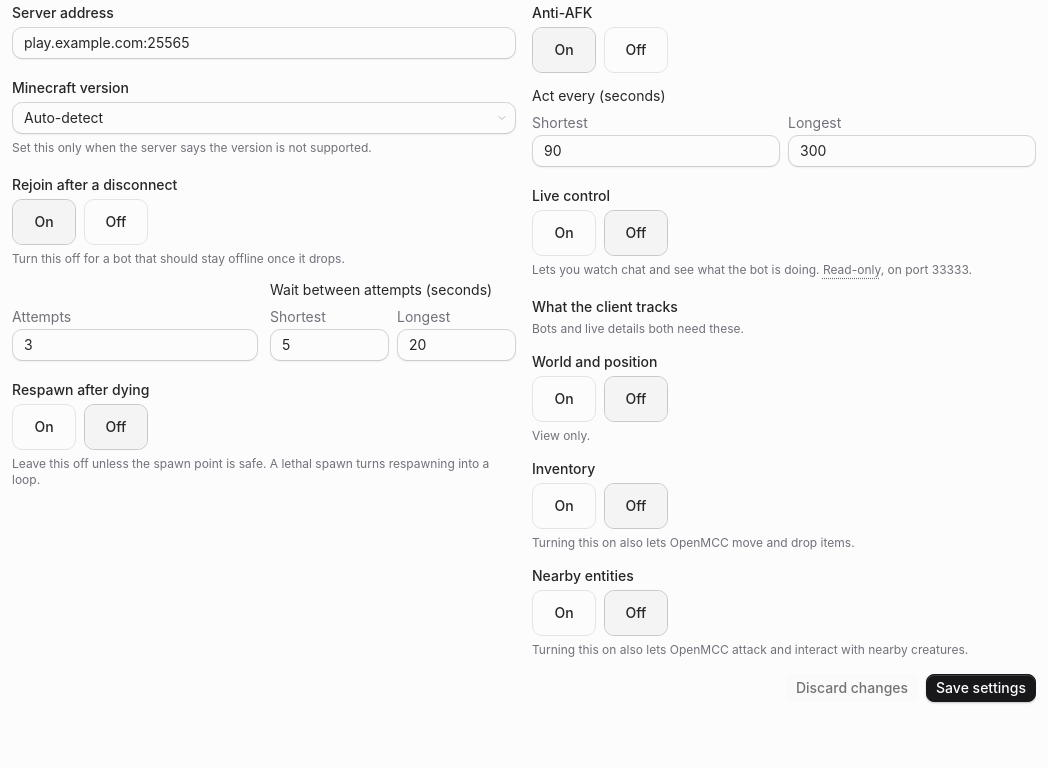
Scenario: ★ what a save that lost the race tells the operator › ★ says someone else saved first, and shows the settings that operator saved
This screenshot has width=1048, height=768.
Replace the text in the field labelled "Server address" with "mine.example.com" at x=264, y=43, box [13,28,515,58]
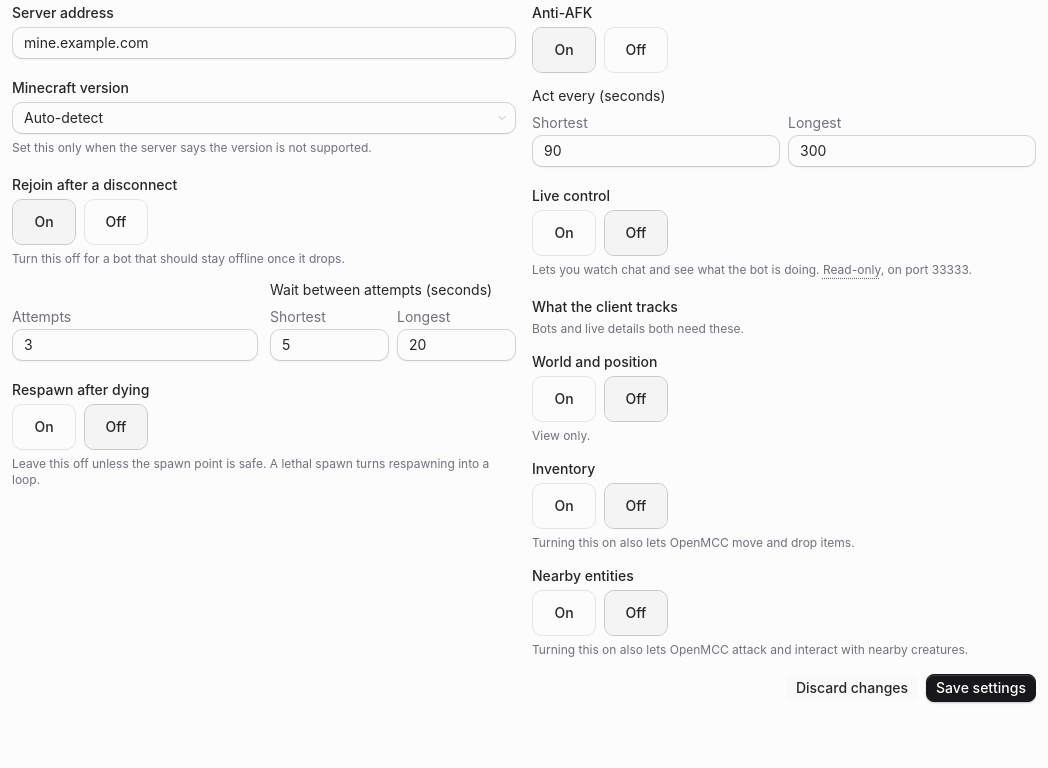
Click the button "Save settings" at x=981, y=688, box [926,674,1036,702]
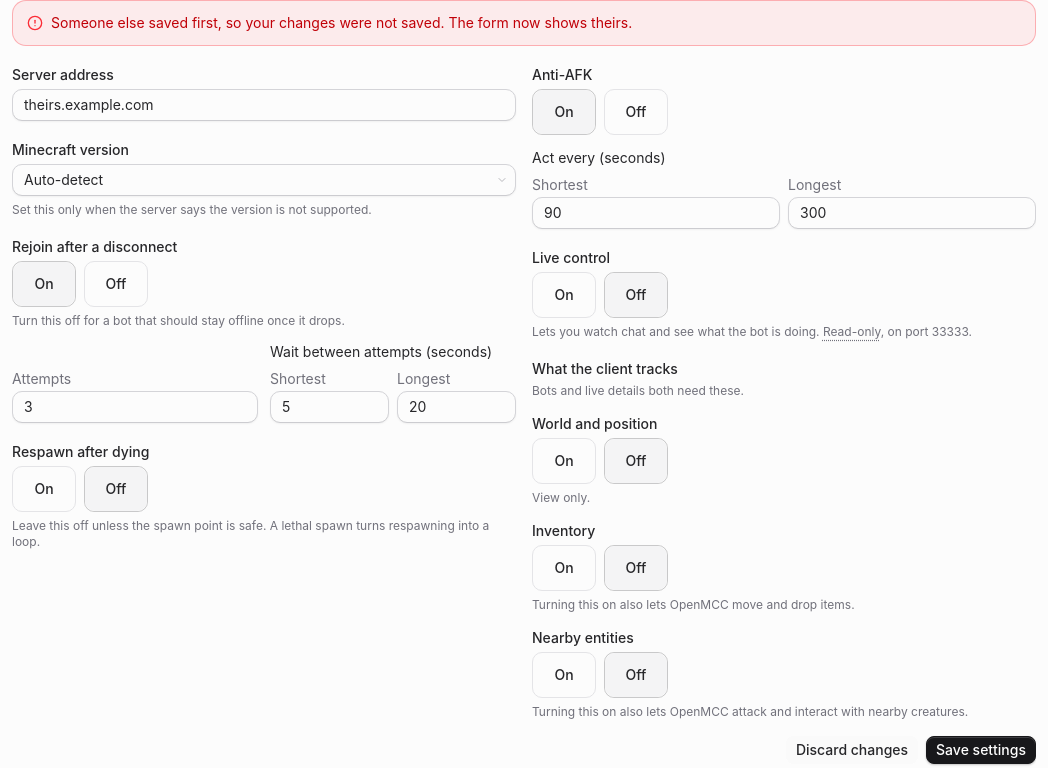
Result: the field labelled "Server address" holds "theirs.example.com" at [13,90,515,120]
